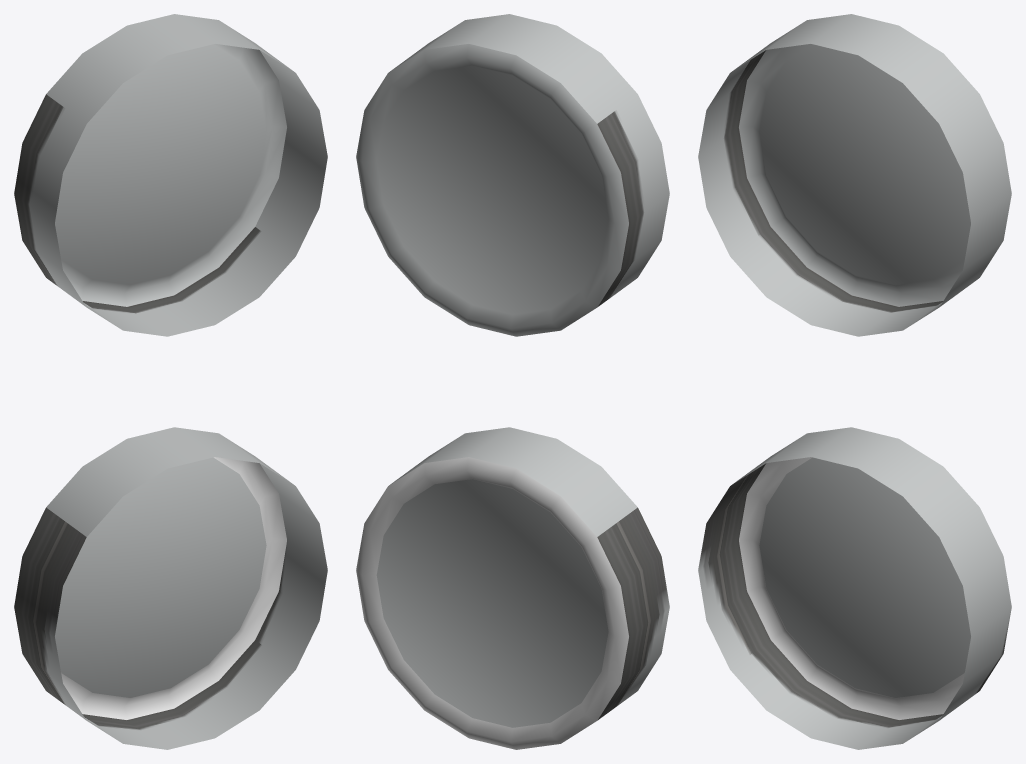
3 renders of one model, left to right at view 1: azimuth 30°, elevation 25°; view 2: azimuth 150°, elevation 25°; view 3: azimuth 330°, elevation 25°, orthographic.
Parts seen in each view (by area): view 1: Panel_Button, Panel_Button_Disabled; view 2: Panel_Button, Panel_Button_Disabled; view 3: Panel_Button, Panel_Button_Disabled.
Boxes of the visible parts, left/top/right/bottom form: Panel_Button: left=14, top=427, right=327, bottom=749; Panel_Button_Disabled: left=14, top=14, right=327, bottom=336; Panel_Button: left=356, top=427, right=669, bottom=749; Panel_Button_Disabled: left=356, top=14, right=669, bottom=336; Panel_Button: left=698, top=427, right=1011, bottom=749; Panel_Button_Disabled: left=698, top=14, right=1011, bottom=336.
Bounding box in the file's own units: 53.69 × 131 × 15.24.
